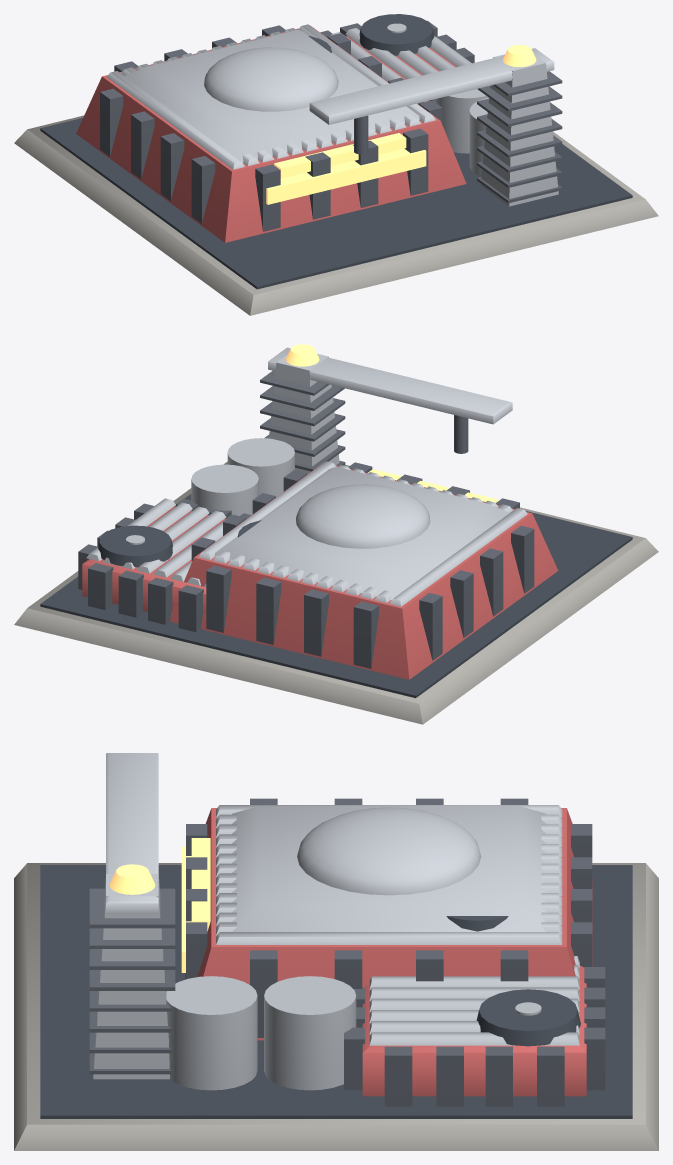
The model's file is nacnst.glb.
3 renders of one model, top to bottom at view 1: azimuth 30°, elevation 25°; view 2: azimuth 150°, elevation 25°; view 3: azimuth 270°, elevation 25°, orthographic. The views are drawn at different scales.
Visible parts, largest first — view 1: Hull; view 2: Hull; view 3: Hull.
Boxes of the visible parts, x1=… form: Hull: x1=14, y1=14, x2=658, y2=315; Hull: x1=14, y1=344, x2=658, y2=724; Hull: x1=14, y1=753, x2=658, y2=1150.
Bounding box in the file's own units: 7.06 × 2.6 × 7.06.
